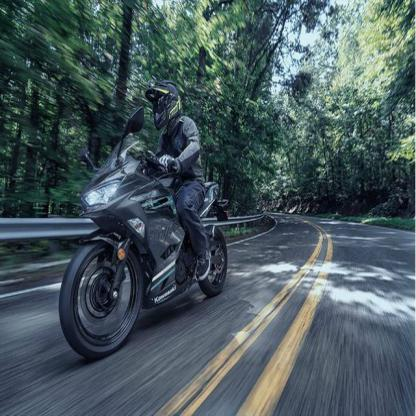Motorcycle: (53, 135, 246, 359)
